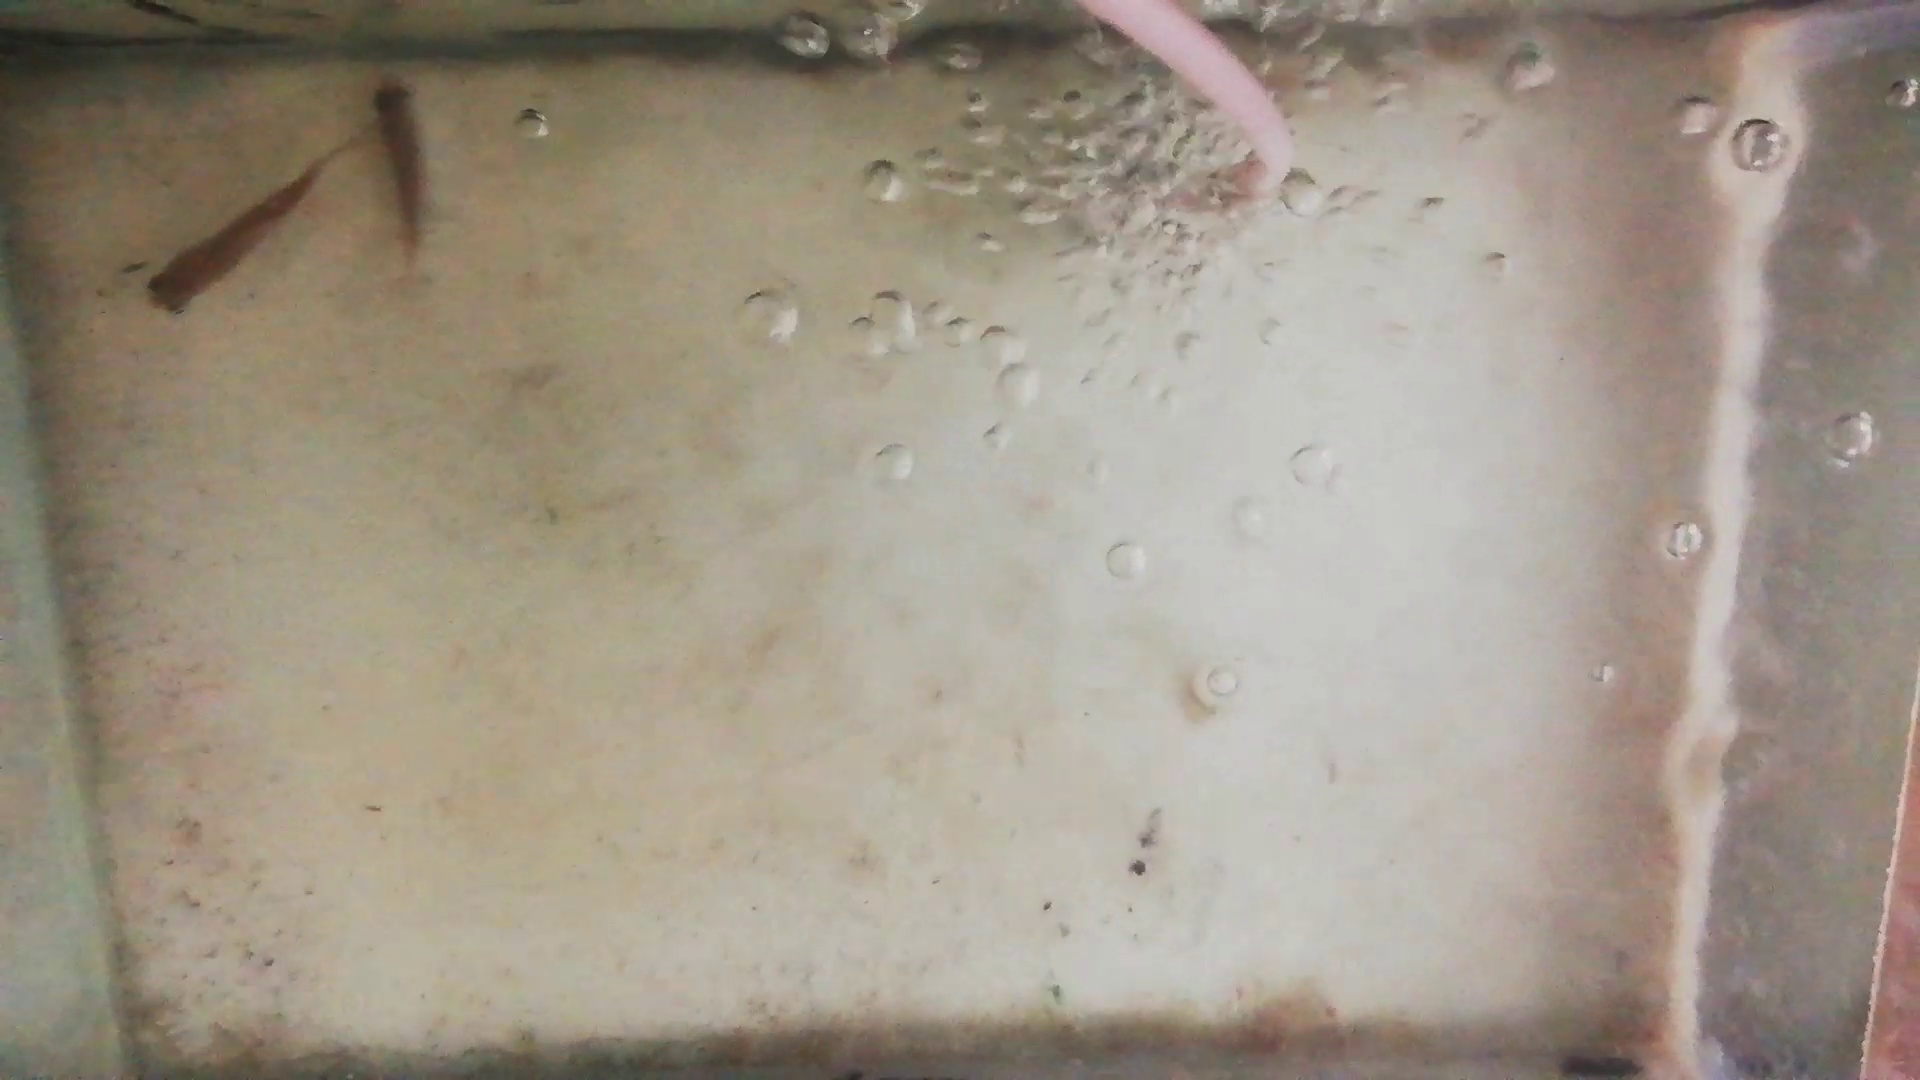fish: (144, 164, 338, 313), (371, 75, 429, 251)
